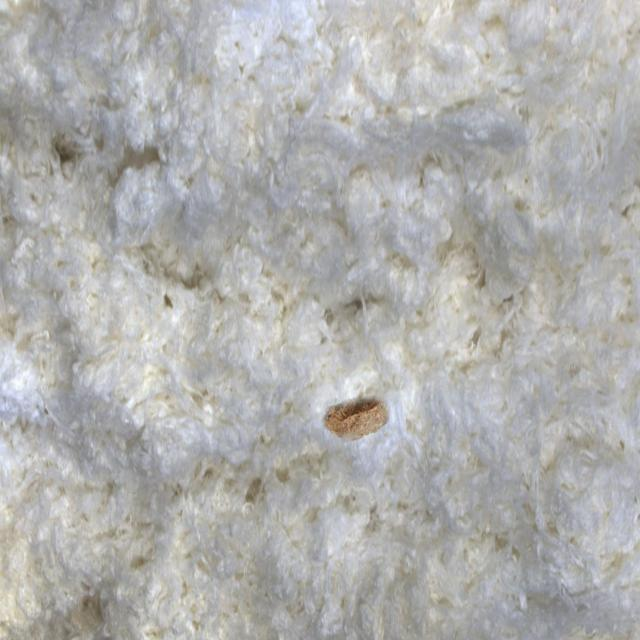dust: (296, 356, 407, 481)
